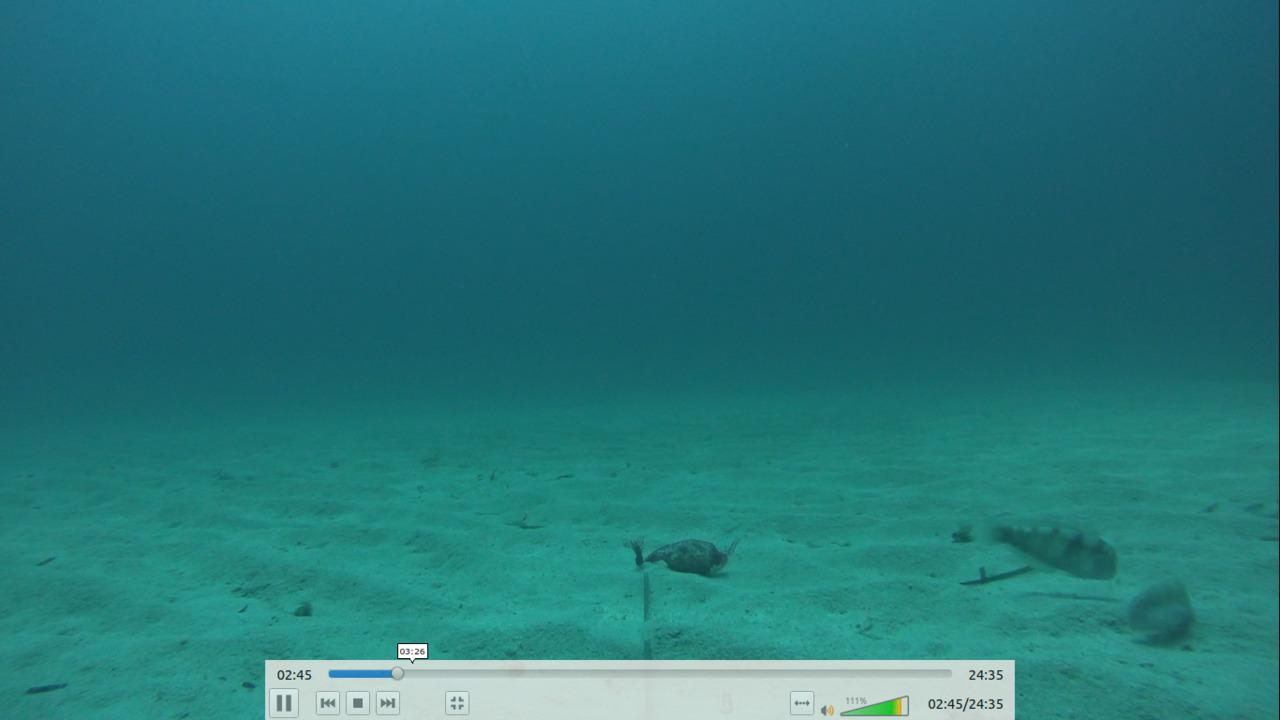raor: (973, 512, 1117, 581), (1123, 576, 1199, 650)
